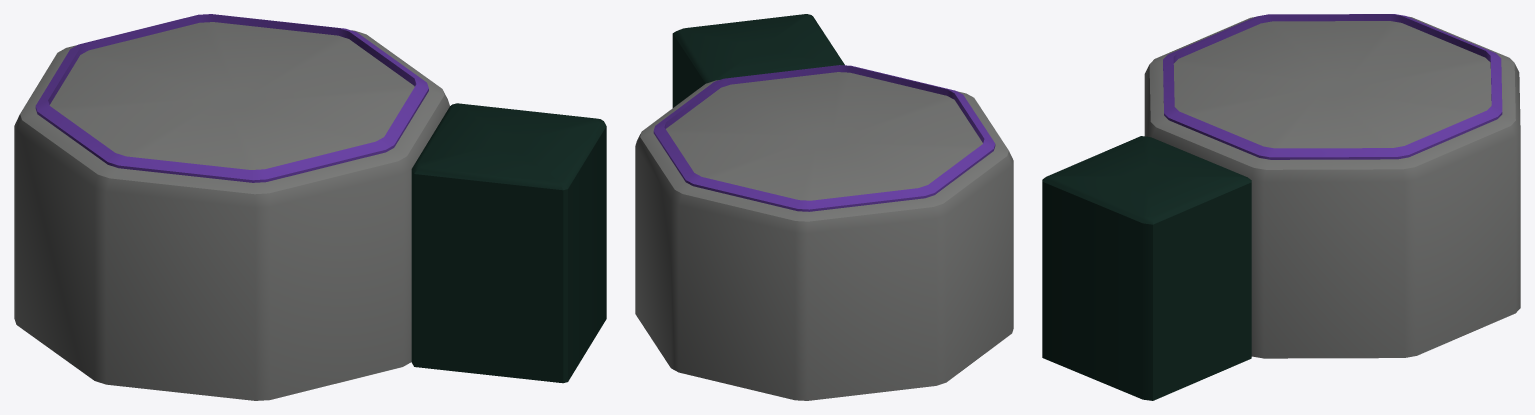
File: Floor Tile.fbx
3 views of the same model, side by side, from view 1: azimuth 30°, elevation 25°; view 2: azimuth 150°, elevation 25°; view 3: azimuth 270°, elevation 25° (orthographic). The views are drawn at different scales.
Visible parts, largest first — view 1: Green Tile; view 2: Green Tile; view 3: Green Tile.
Boxes of the visible parts, left/top/right/bottom form: Green Tile: left=14, top=14, right=606, bottom=400; Green Tile: left=635, top=14, right=1013, bottom=400; Green Tile: left=1042, top=14, right=1520, bottom=400.
Bounding box in the file's own units: 235 × 108 × 236.
